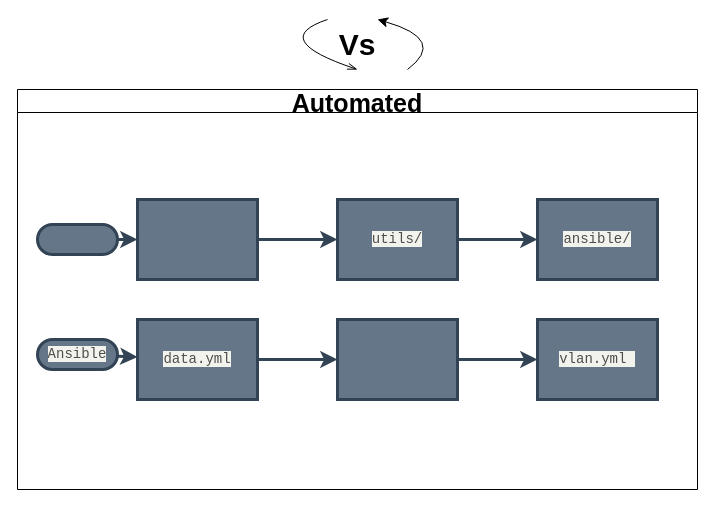
This 715x507 diagram has some shape labels left out. Each missing label, with the centre of its shape:
devices .yml: the point at 397,359
gns3/: the point at 197,239
Python: the point at 77,239
